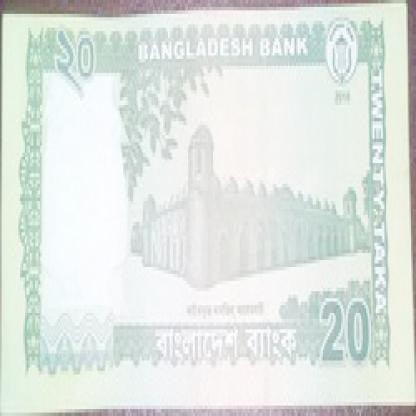Twenty: (313, 292, 376, 375), (58, 21, 112, 100)
